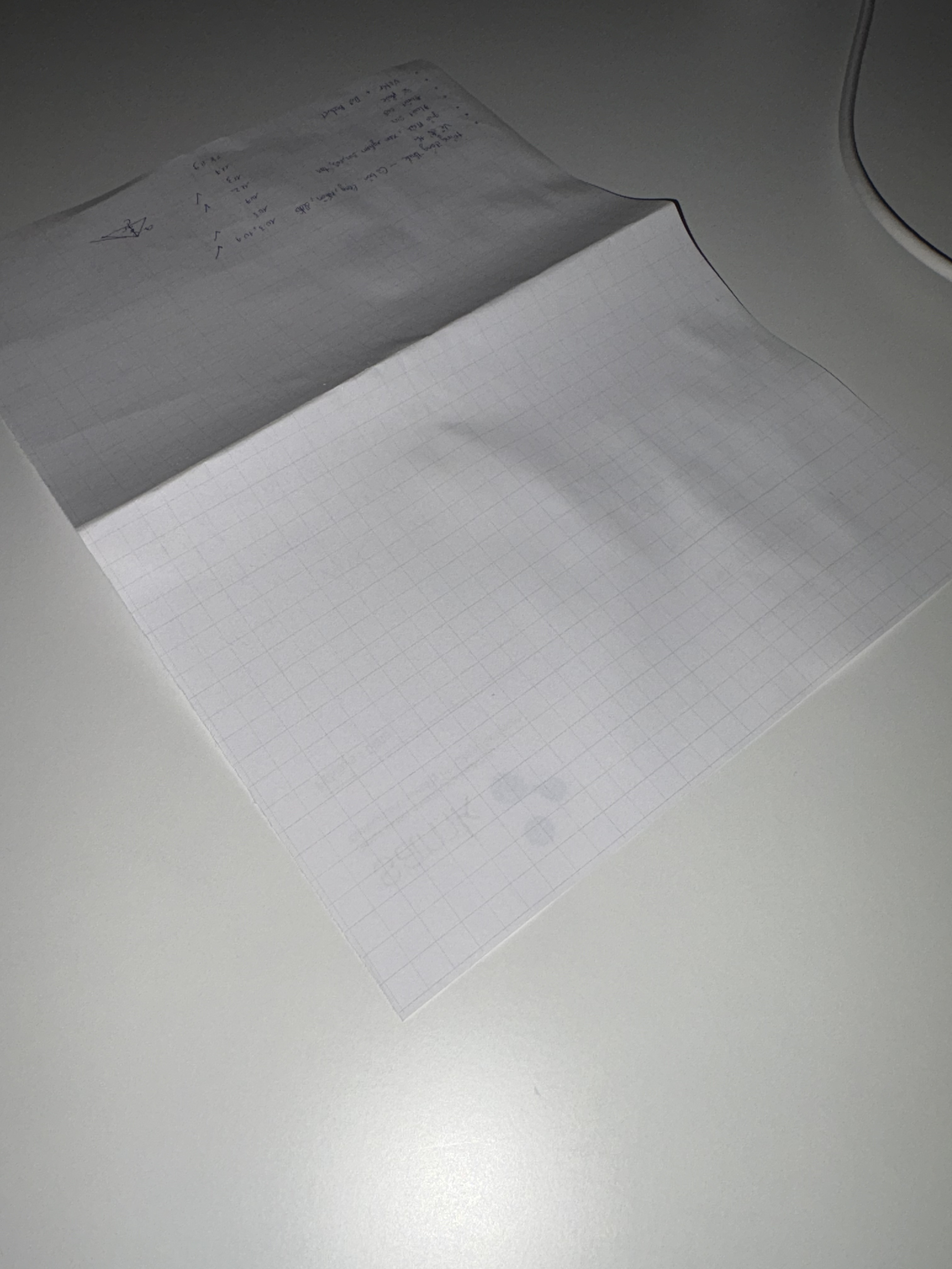paper: (4, 60, 952, 1011)
